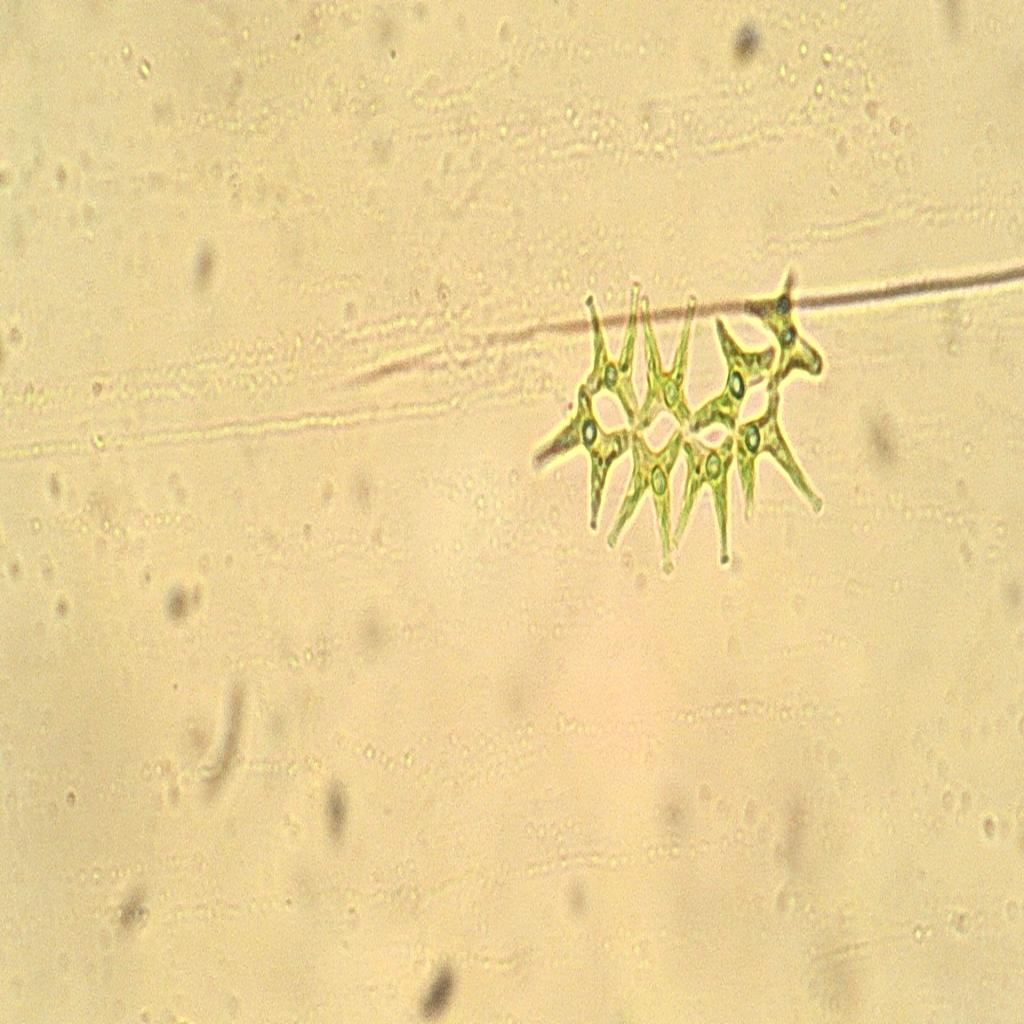Pediastrum_CFI: (514, 226, 854, 612)
